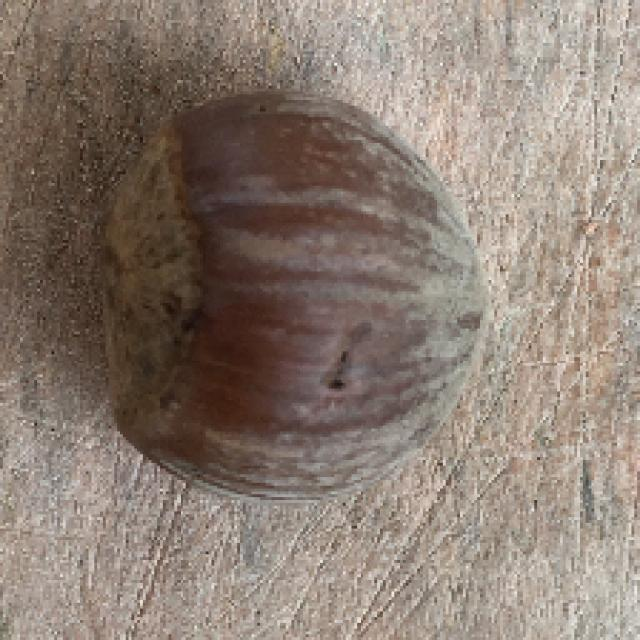damagedHazelnut: (113, 82, 495, 498)
